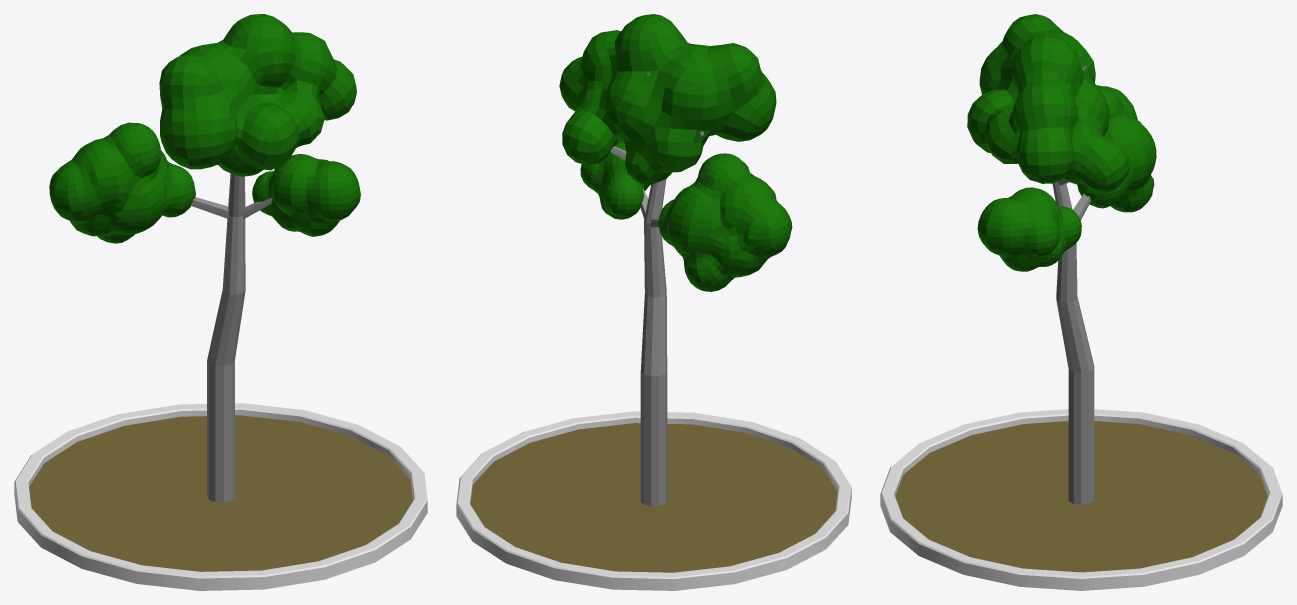
Rendered from Tree.fbx.
The picture shows the model from 3 angles, left to right: view 1: azimuth 30°, elevation 25°; view 2: azimuth 150°, elevation 25°; view 3: azimuth 270°, elevation 25°; orthographic projection. The views are drawn at different scales.
Visible parts, largest first — view 1: pCylinder164; view 2: pCylinder164; view 3: pCylinder164.
Boxes of the visible parts, <box> form: pCylinder164: <box>14,14,427,590</box>; pCylinder164: <box>456,14,851,590</box>; pCylinder164: <box>880,14,1282,590</box>.
Bounding box in the file's own units: 5.27 × 6.93 × 5.27.
